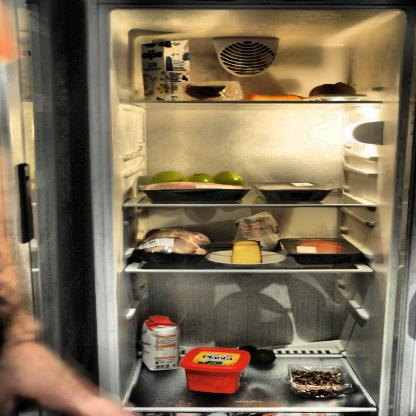apple: (152, 172, 246, 188)
beef: (294, 238, 353, 264)
butter: (180, 348, 249, 394)
carrot: (240, 94, 310, 102)
cheese: (233, 240, 263, 266)
chicken: (135, 228, 214, 266)
eggs: (310, 82, 360, 101)
ground_beef: (145, 181, 252, 202)
lime: (238, 346, 278, 364)
milk: (140, 39, 190, 104)
shrimp: (290, 368, 344, 398)
